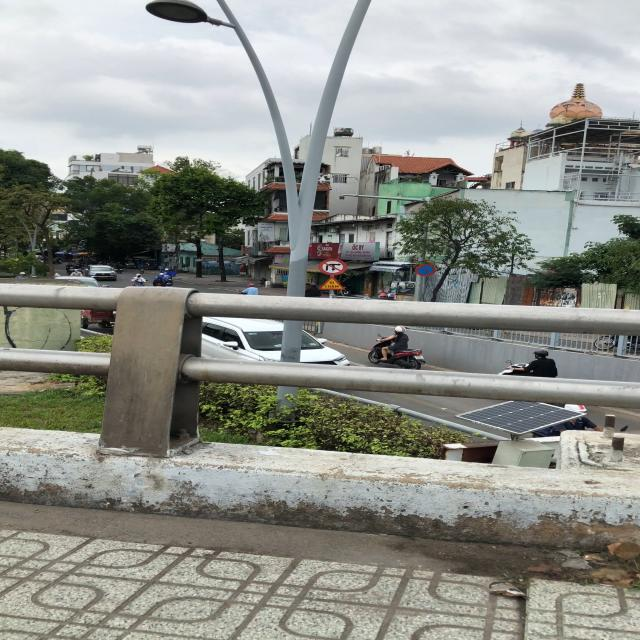Bien bao cam re phai va quay dau: (317, 258, 349, 276)
